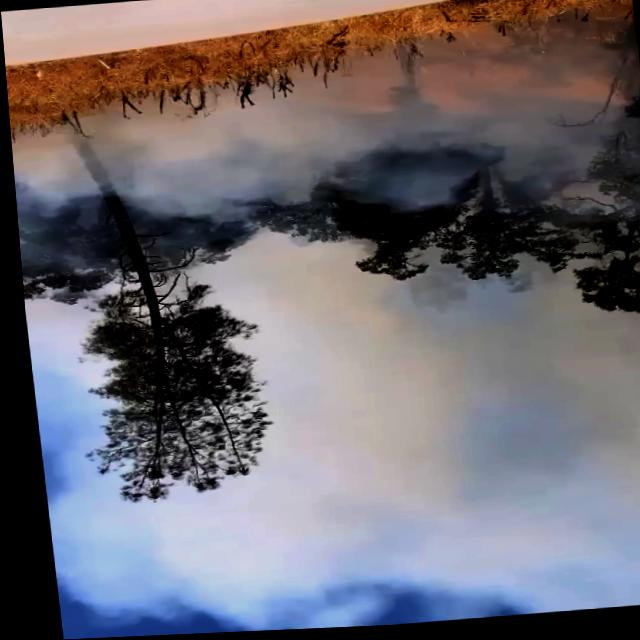no_helmet: (215, 306, 640, 633), (4, 34, 640, 232)
